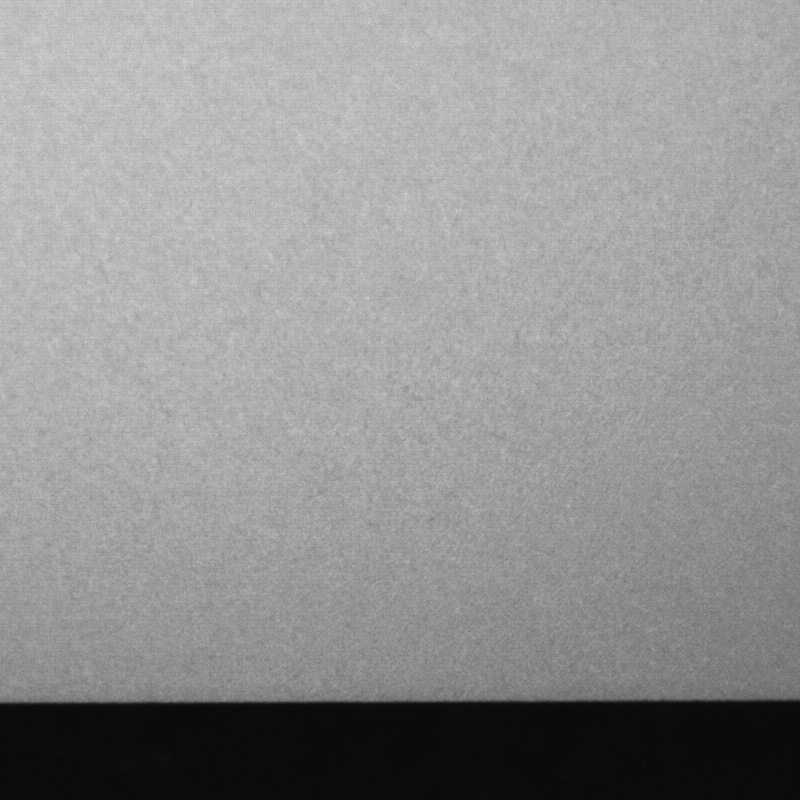defect: (366, 517, 389, 544)
